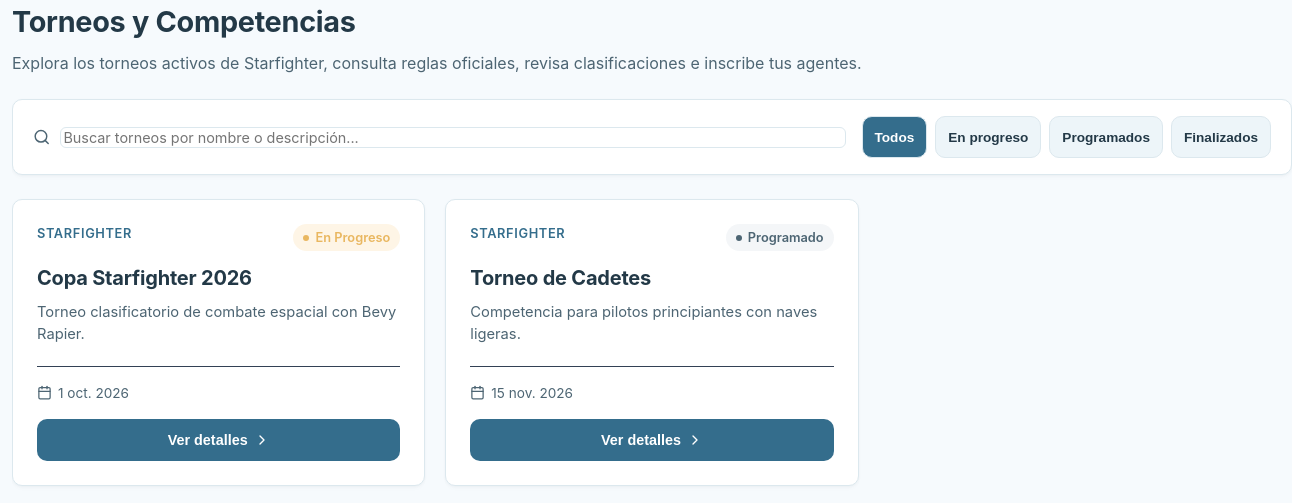
Test: Contests Page Feature (Section 5.7) › renders list of contests with search filter
The image size is (1292, 503).
Check: the heading "Copa Starfighter 2026" is shown, box [37,266,252,290]
Check: the heading "Torneo de Cadetes" is shown, box [470,266,651,290]
// Filter by search query
Type "Cadetes" into the field labelled "Buscar torneos" at [453, 137], box [60,127,846,148]
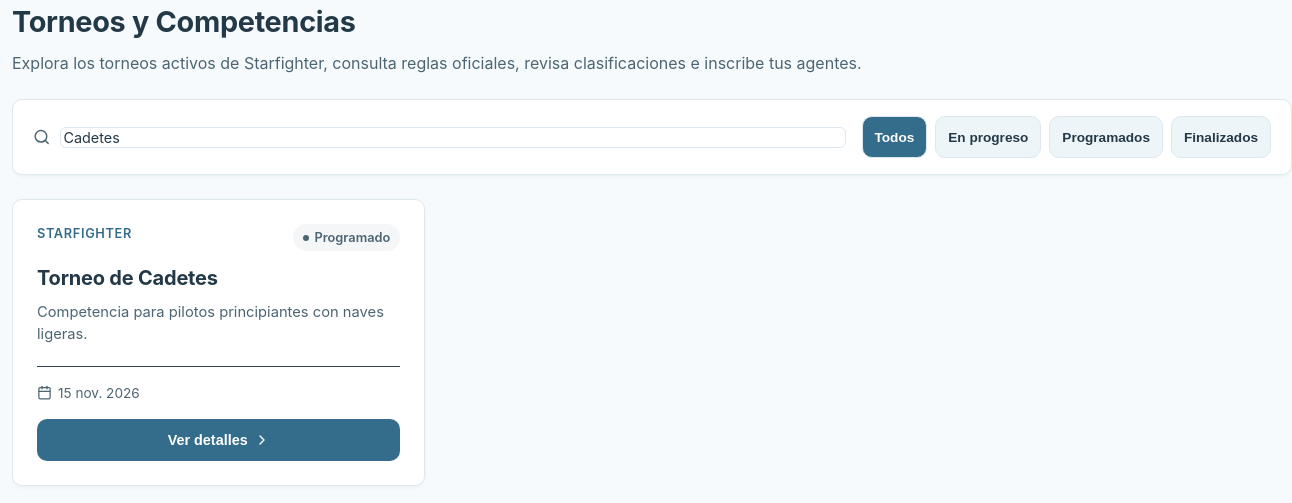
Check: the heading "Torneo de Cadetes" is shown, box [37,266,218,290]
Check: the heading "Copa Starfighter 2026" is gone
